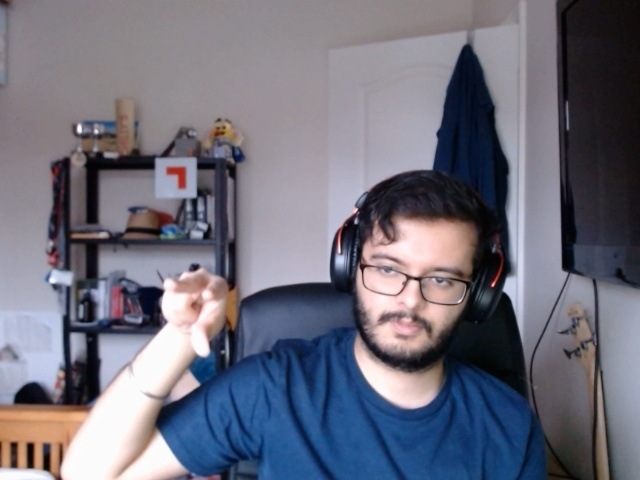No: (153, 263, 238, 363)
